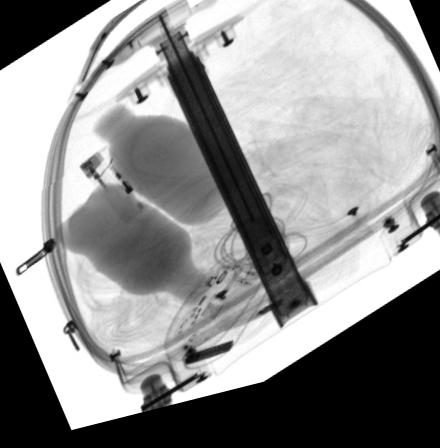Lighter: (77, 154, 143, 229)
